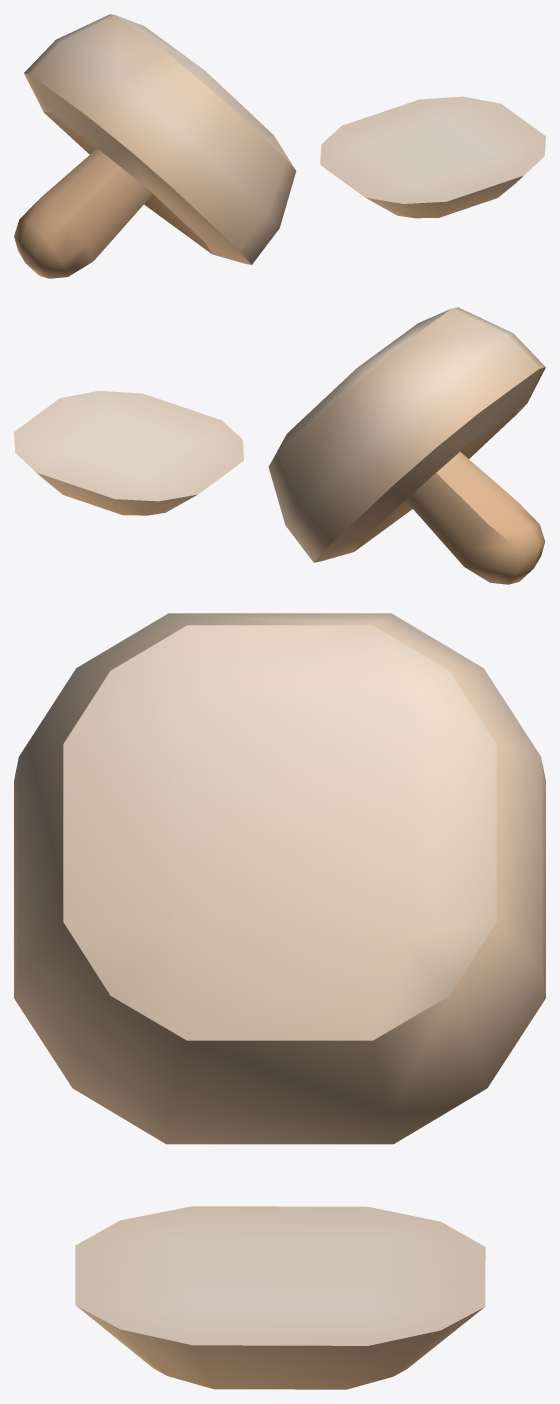
The model's file is food_ingredient_mushroom_chopped.obj.
The picture shows the model from 3 angles, top to bottom: view 1: azimuth 30°, elevation 25°; view 2: azimuth 150°, elevation 25°; view 3: azimuth 270°, elevation 25°; orthographic projection. The views are drawn at different scales.
Visible parts, largest first — view 1: food_ingredient_mushroom_chopped_Cube.18463; view 2: food_ingredient_mushroom_chopped_Cube.18463; view 3: food_ingredient_mushroom_chopped_Cube.18463.
Part boxes in pixels (x1,y1,x2,y2): food_ingredient_mushroom_chopped_Cube.18463: (14,14,545,278); food_ingredient_mushroom_chopped_Cube.18463: (14,307,545,584); food_ingredient_mushroom_chopped_Cube.18463: (14,613,545,1389).
Size of the model in its own units: 1.11 by 0.5001 by 0.5227.
Materials: 1 (1 with a texture image).
